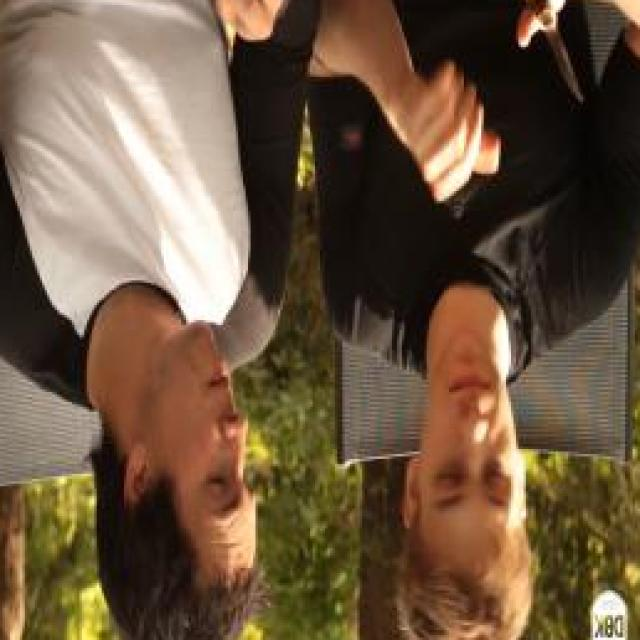knife: (516, 0, 595, 122)
